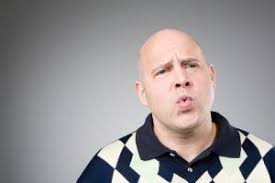white_male: (146, 59, 217, 132)
